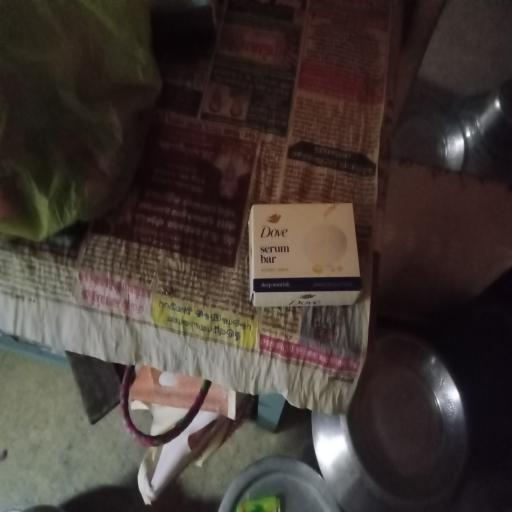Dove`1: (249, 201, 362, 310)
